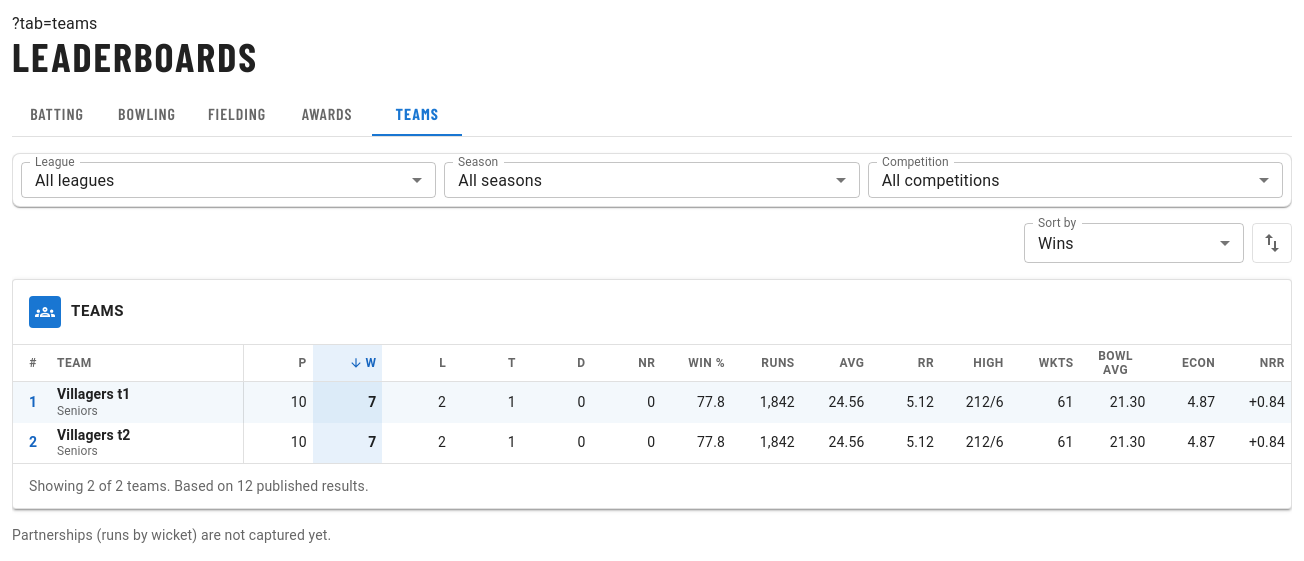
Test: Teams tab › filters › offers only the filter values the Teams options read lists
Click the dropdown labelled "season". click: [500, 180]
box: x1=458 y1=170 x2=542 y2=190
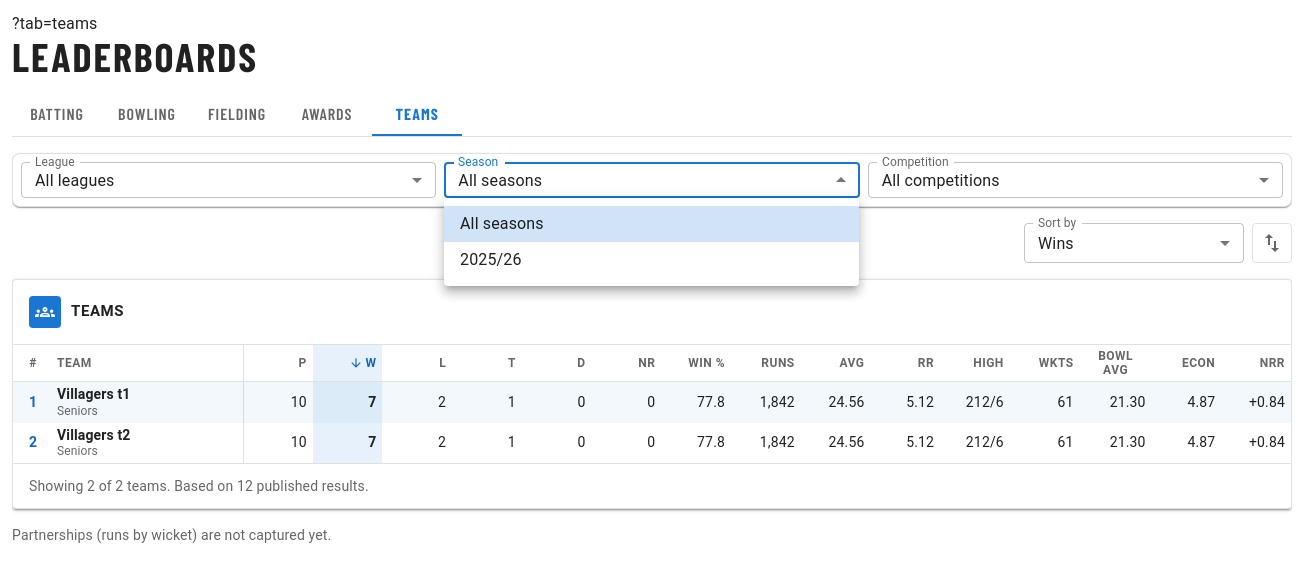
Check: the options read "All seasons", "2025/26", in this order, box x1=444 y1=206 x2=859 y2=242; x1=460 y1=250 x2=522 y2=269
